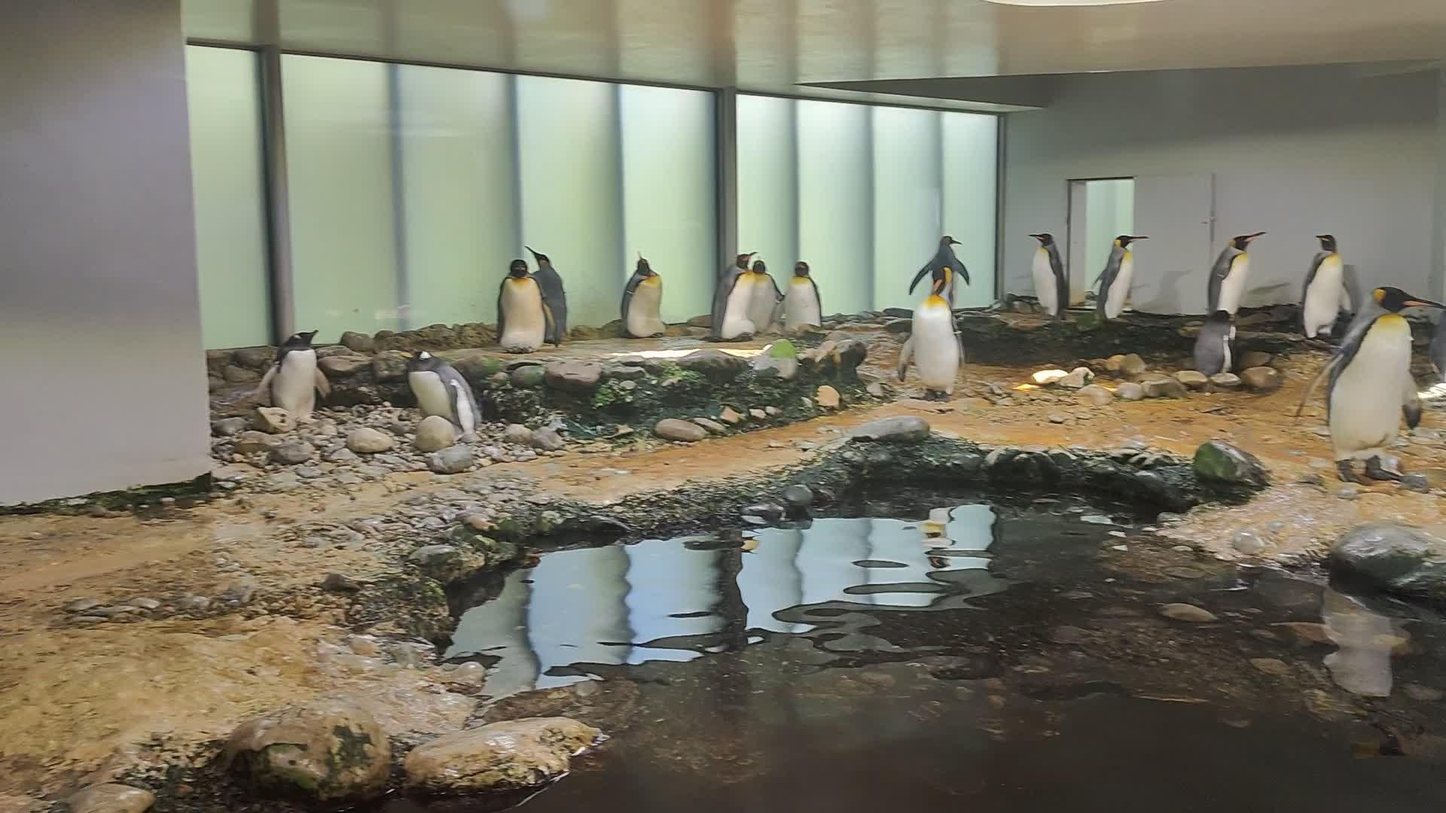apple: (1295, 286, 1446, 485), (898, 266, 965, 402), (398, 350, 481, 434), (258, 330, 332, 421), (495, 260, 555, 354), (699, 251, 758, 343), (1301, 235, 1352, 340), (1207, 232, 1267, 314), (1095, 235, 1149, 319), (524, 246, 567, 348), (909, 235, 969, 306), (620, 257, 666, 339), (1028, 233, 1068, 315), (1194, 310, 1236, 378), (748, 260, 785, 337), (784, 261, 821, 331)
